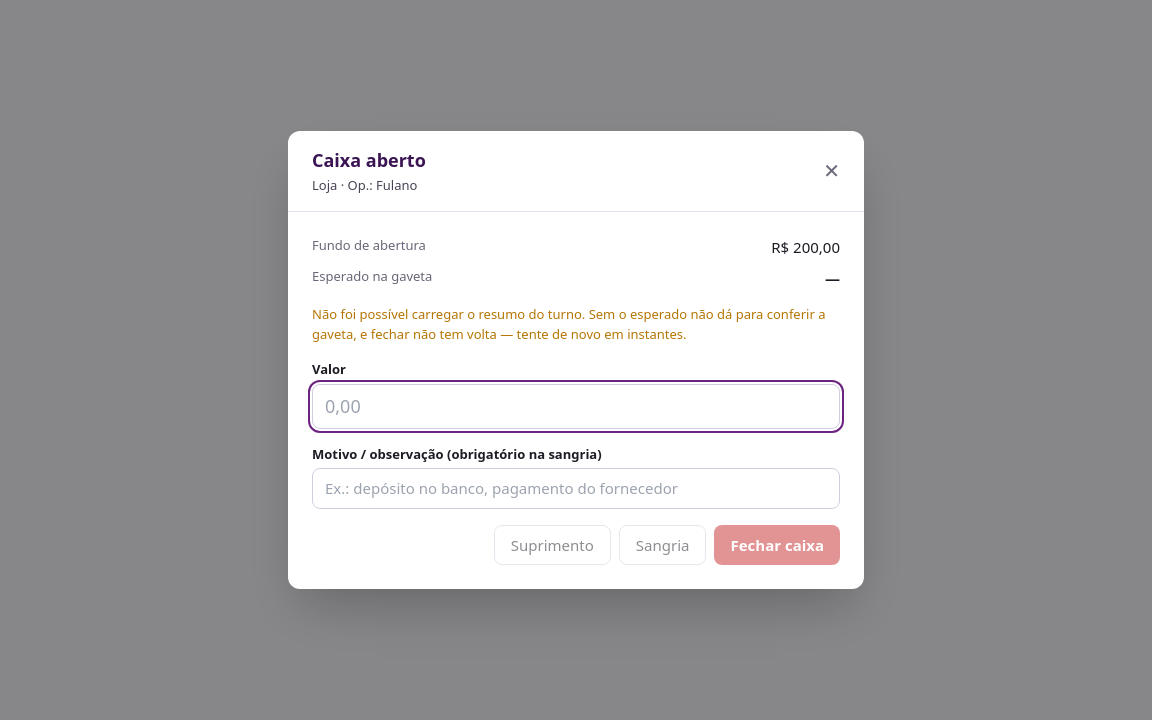
it: H-caixa-seguranca-M01 — a ação no diálogo com a gaveta já fechada em outro lugar › SANGRIA recusada com CORE_CASH_CLOSED: o PDV zera a gaveta e o diálogo passa a "Abrir caixa"
Expected: the text "—" is shown, 825,268 -> 840,288
In the field labelled "Valor": (576, 406) 312,384 -> 840,429, type "150,00"
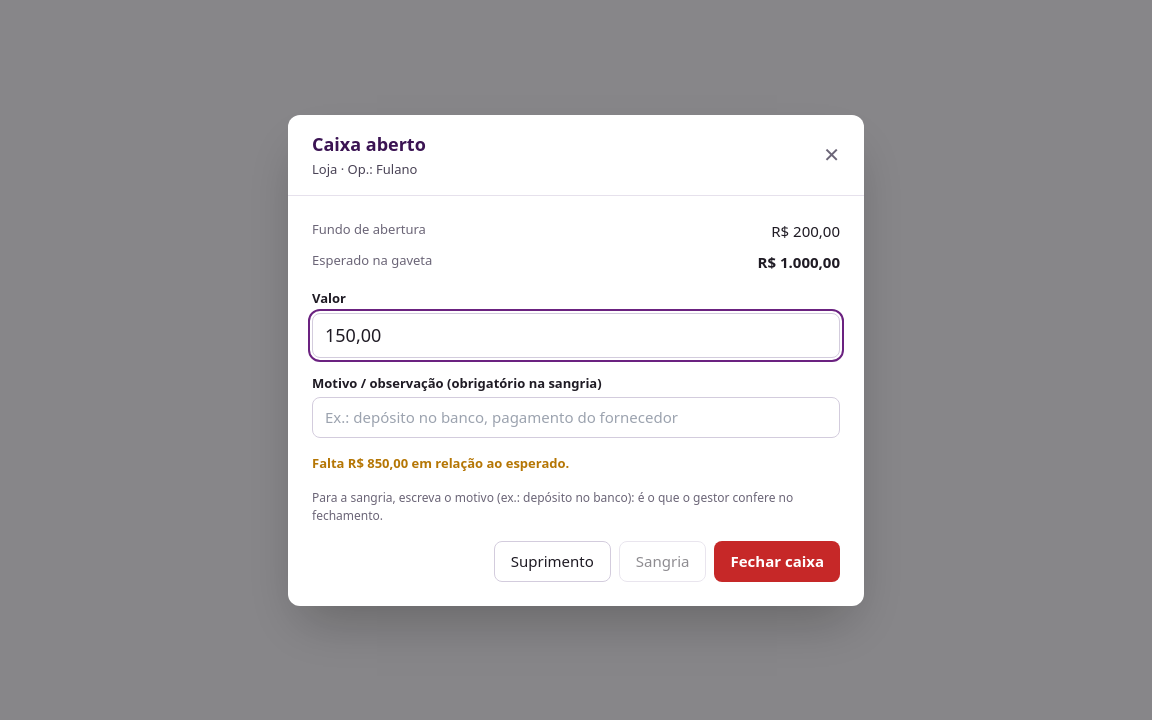
In the field named "Motivo (obrigatório na sangria)": (576, 417) 312,397 -> 840,438, type "depósito no banco"
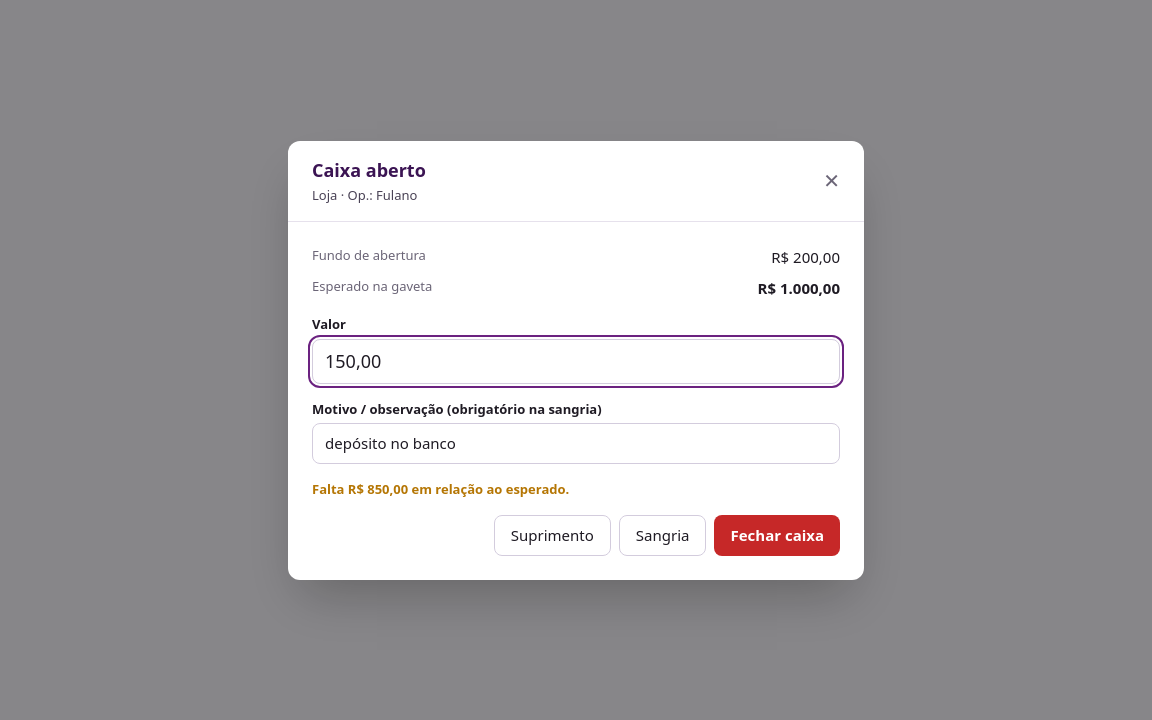
Click the button "Sangria": click(663, 535) 619,515 -> 706,556
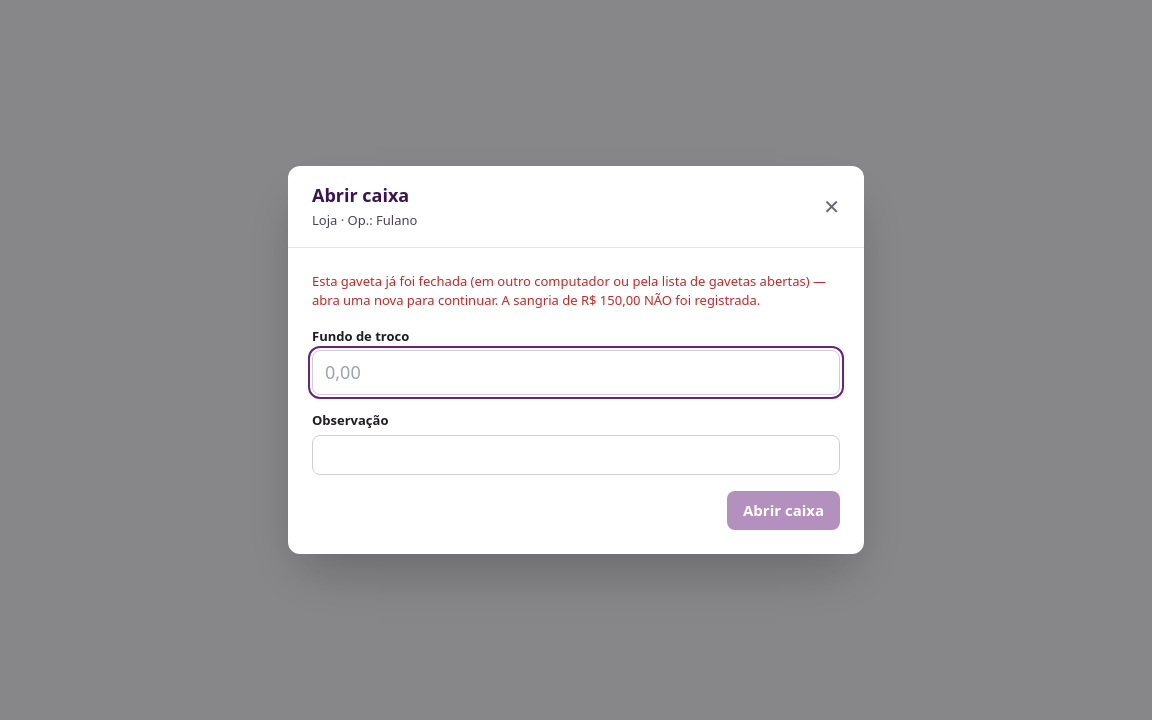
Result: the message is shown at 312,272 -> 840,311
Result: the message shows "Esta gaveta já foi fechada" at 312,272 -> 826,309
Result: the message shows "abra uma nova para continuar" at 312,272 -> 826,309
